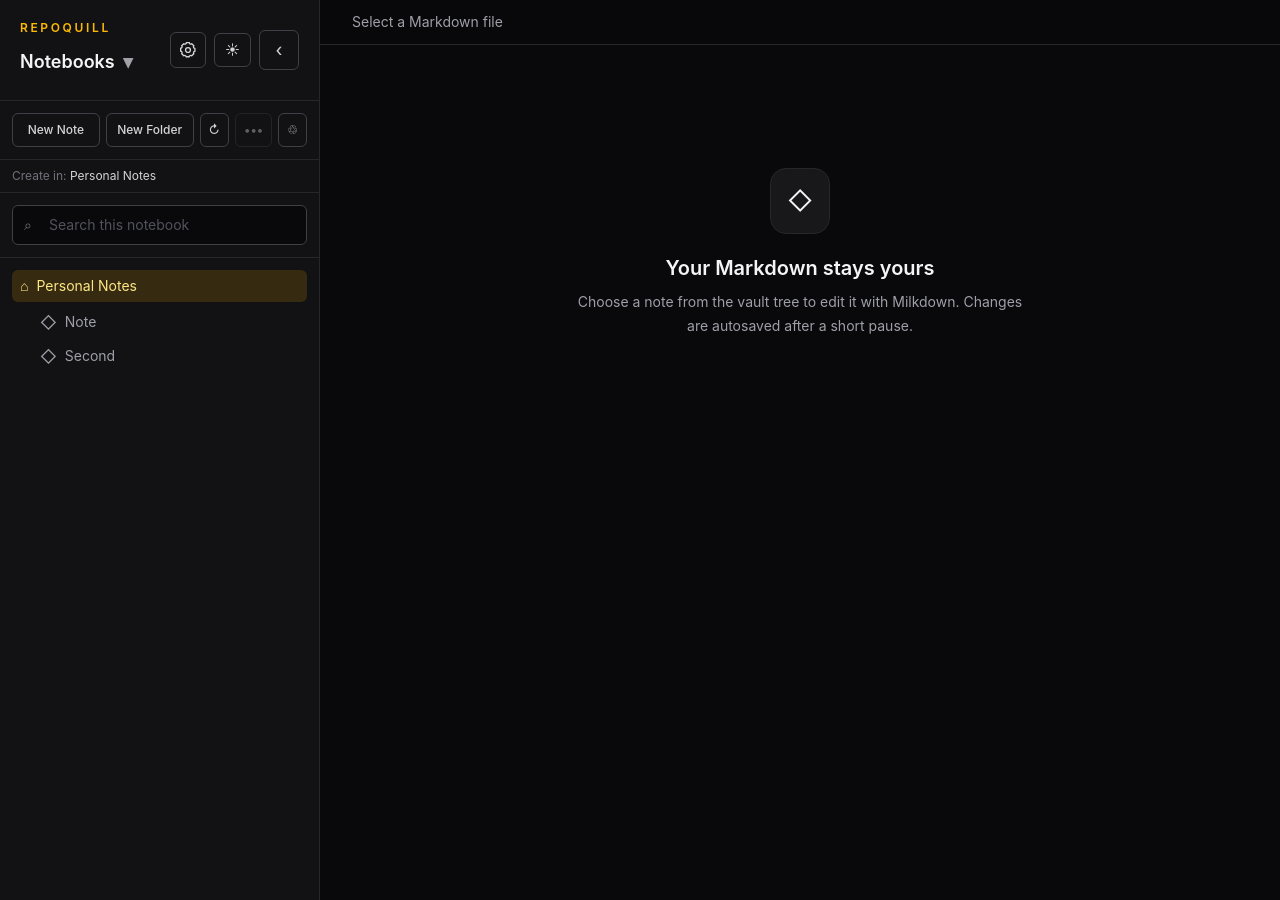
Test: App auto-lock integration › opens vault navigation, onboarding, and switches without stale tree state
This screenshot has width=1280, height=900.
Check: the button "⌂ Personal Notes" is shown, box [12,270,307,302]
Click the button "▾": (81, 62) [20,44,142,80]
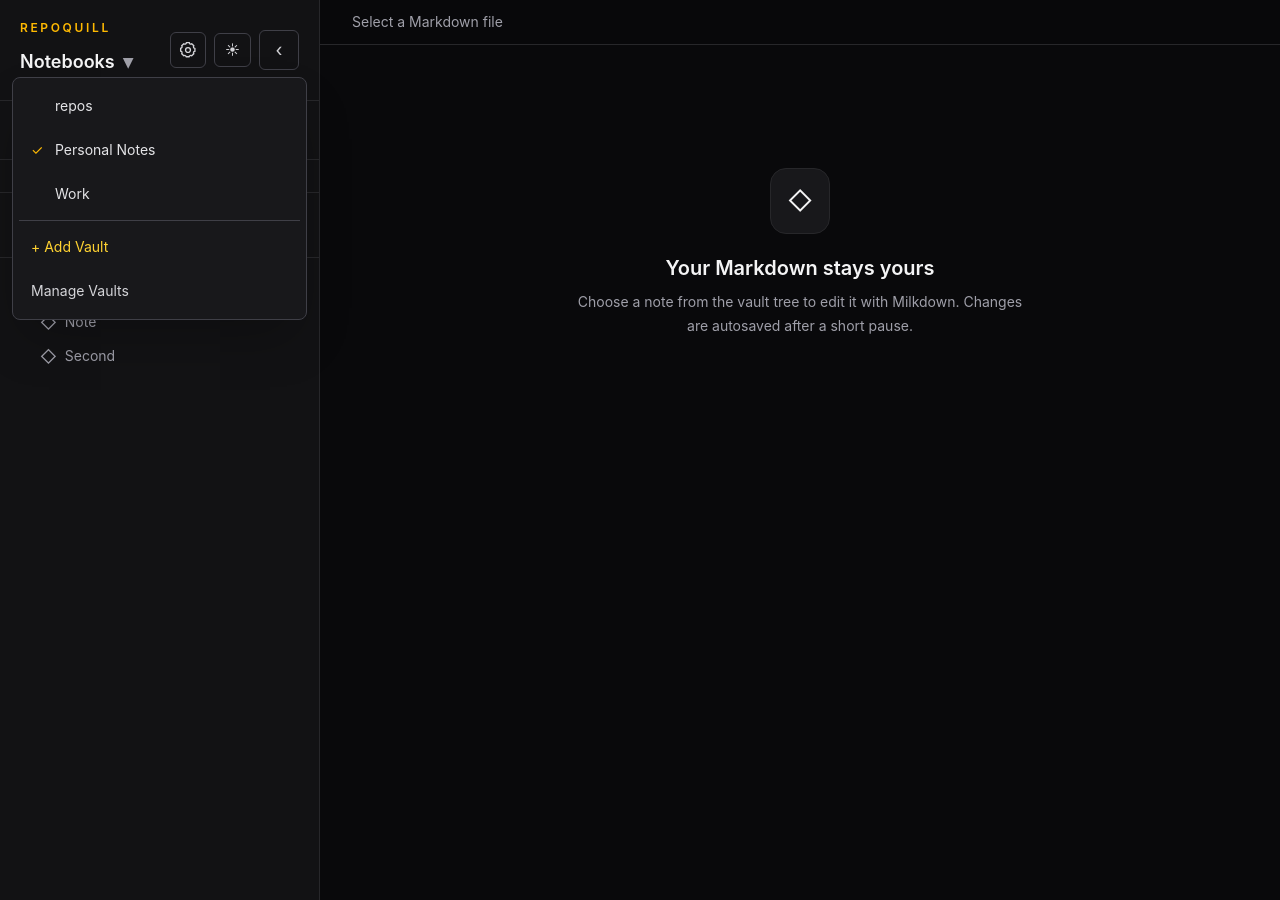
Click the menu item "+ Add Vault": (70, 246) [19,225,300,269]
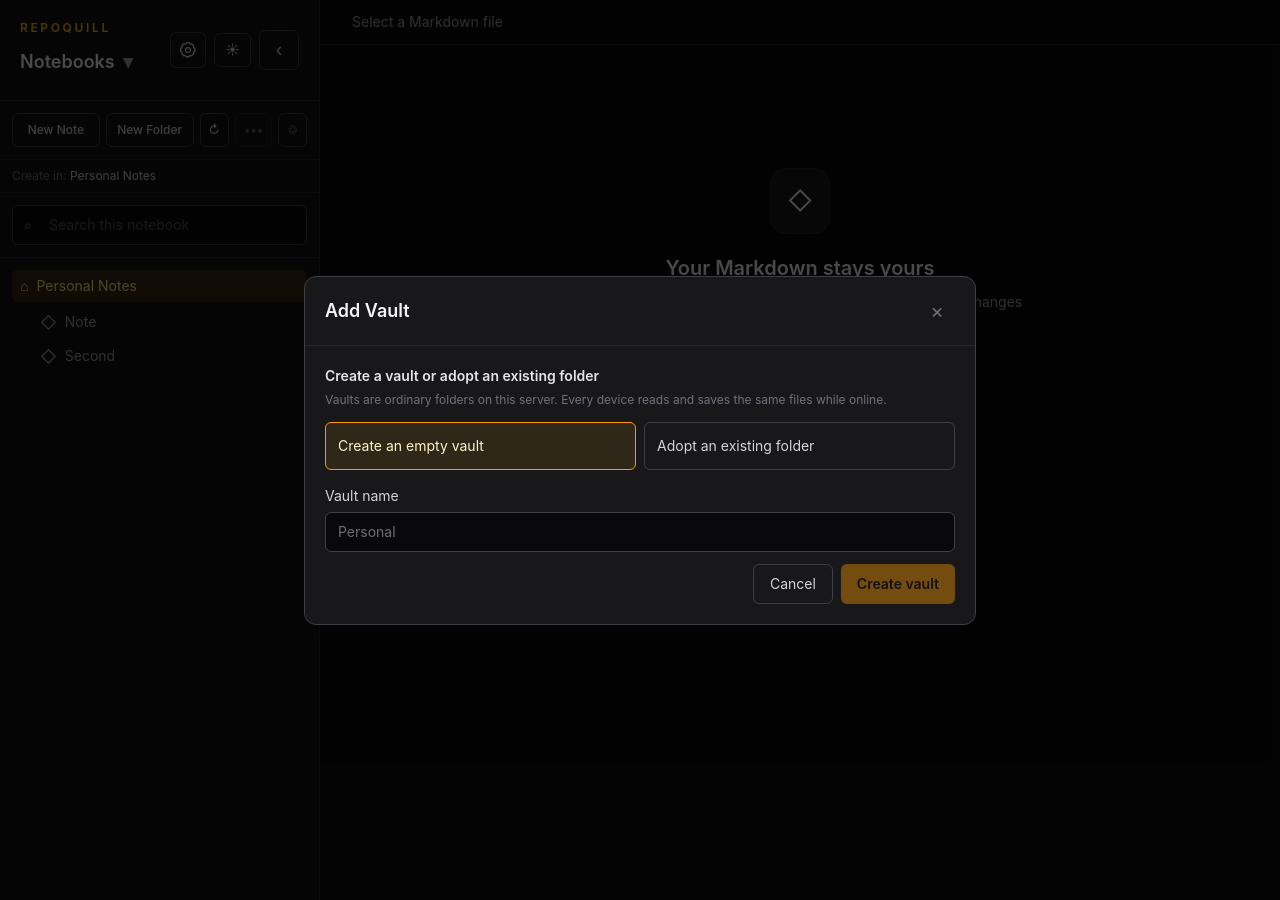
Check: the heading "Add Vault" is shown, box [325,296,410,324]
Click the button "Cancel": (793, 584) [753,564,833,604]
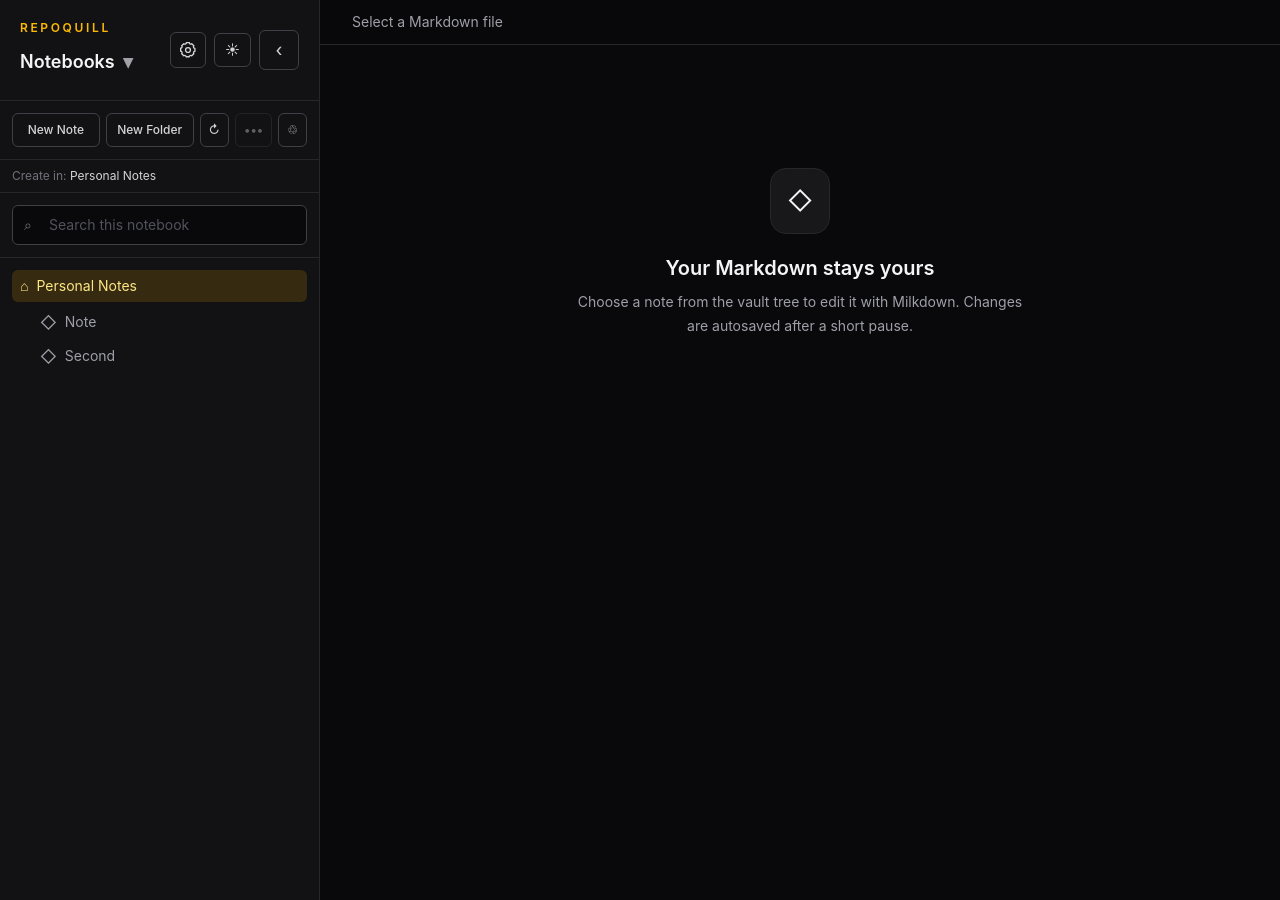
Click the button "▾": (81, 62) [20,44,142,80]
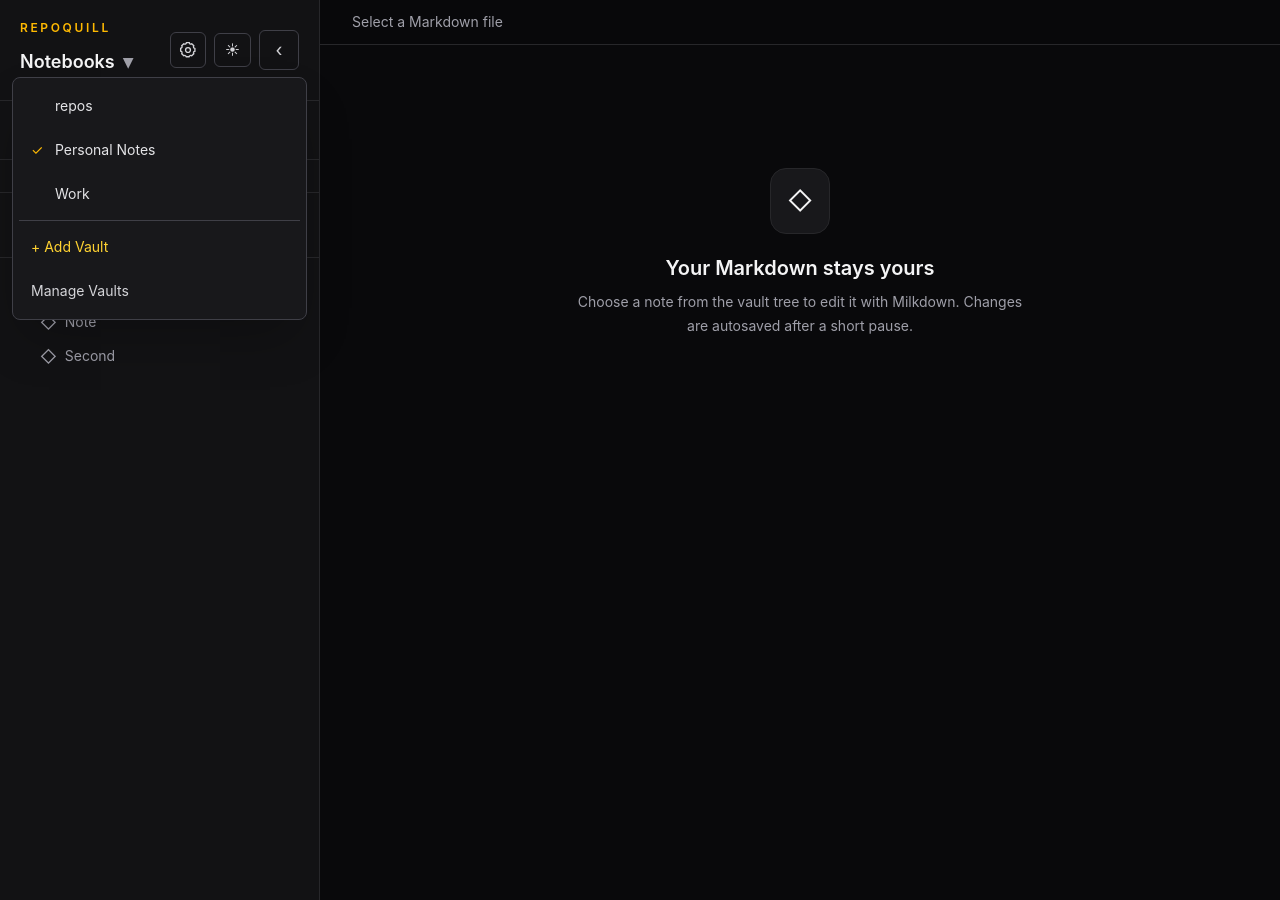
Click the menu item "Work": (72, 193) [19,172,300,216]
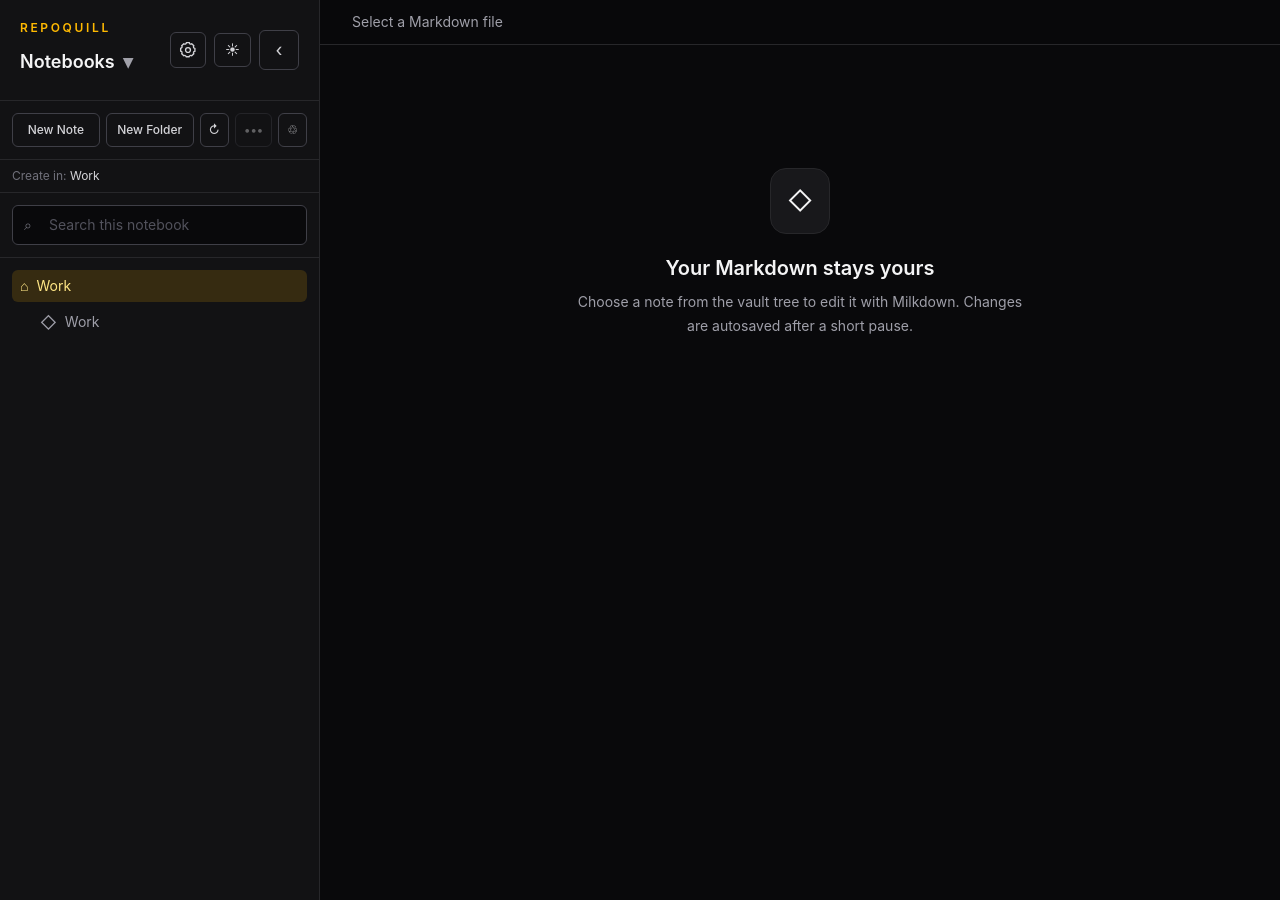
Check: the button "⌂ Work" is shown, box [12,270,307,302]
